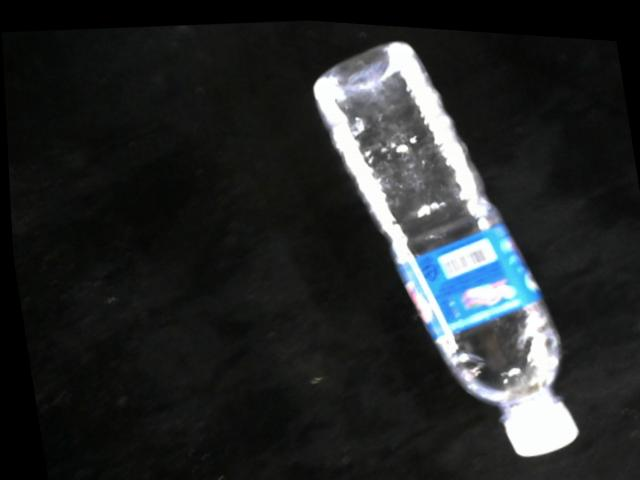bottle: (311, 33, 580, 455)
